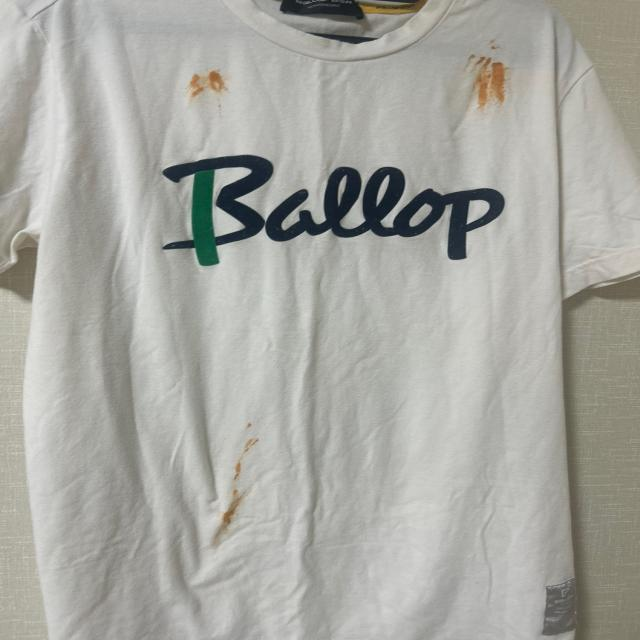stain: (463, 49, 525, 112), (231, 422, 270, 483), (184, 67, 235, 99), (218, 490, 256, 529), (482, 32, 504, 49)
